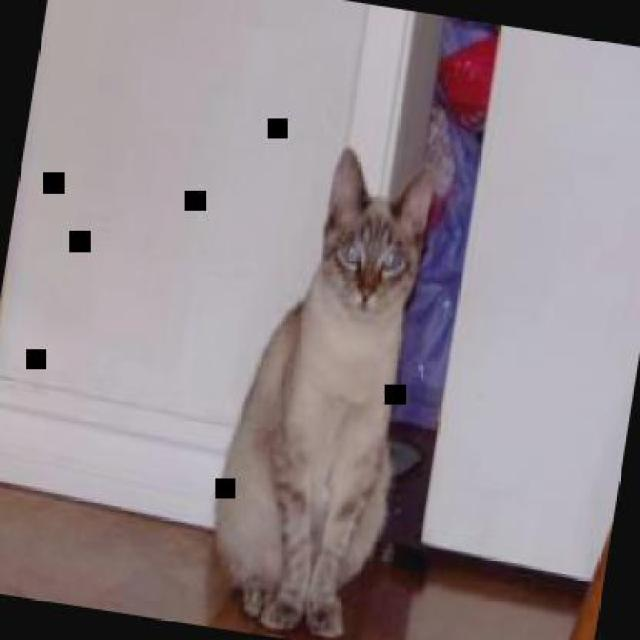cat: (195, 132, 440, 638)
